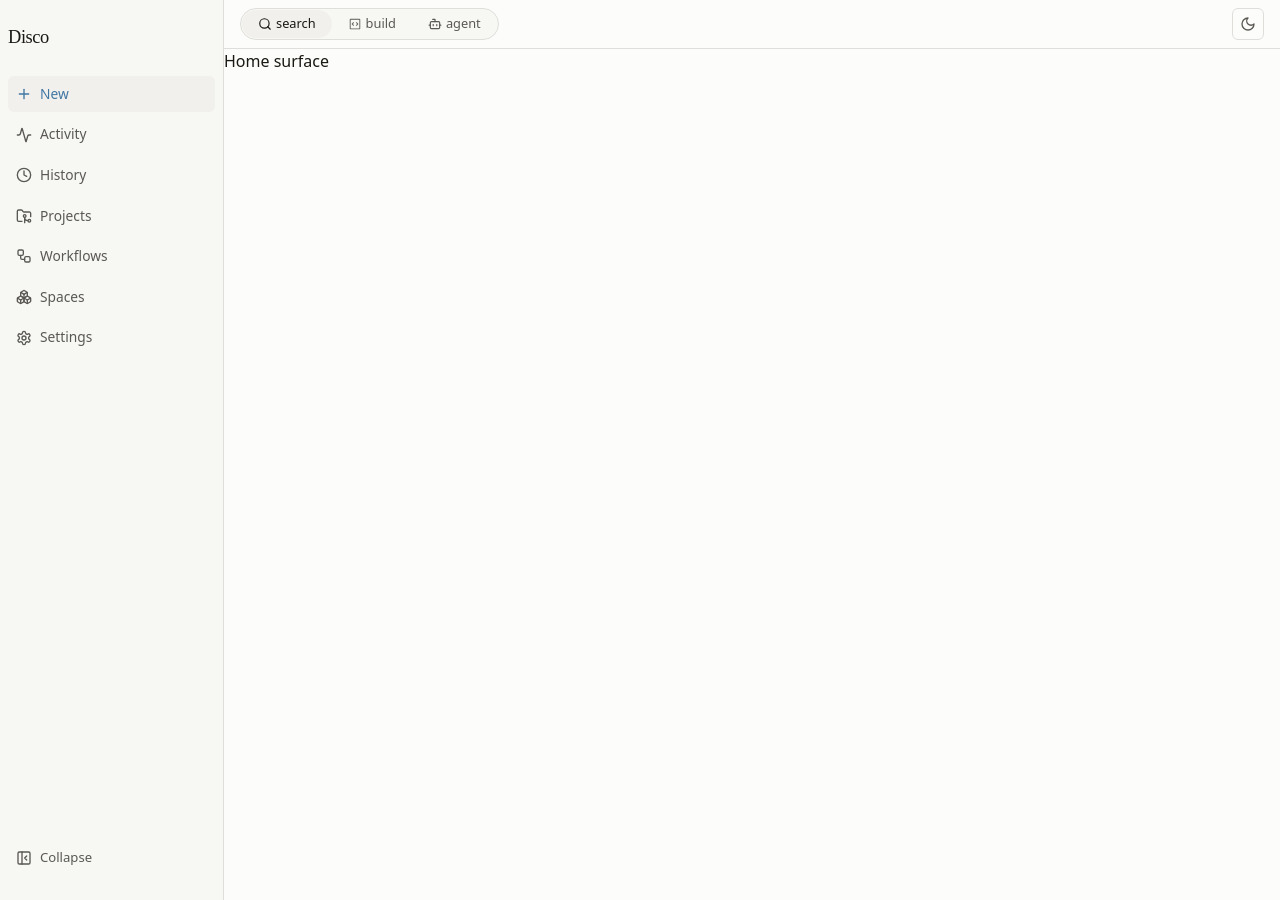
Application shell › collapses and expands the rail
Click the button with aria-label "Collapse navigation": [112, 858] box [8,840,215,876]
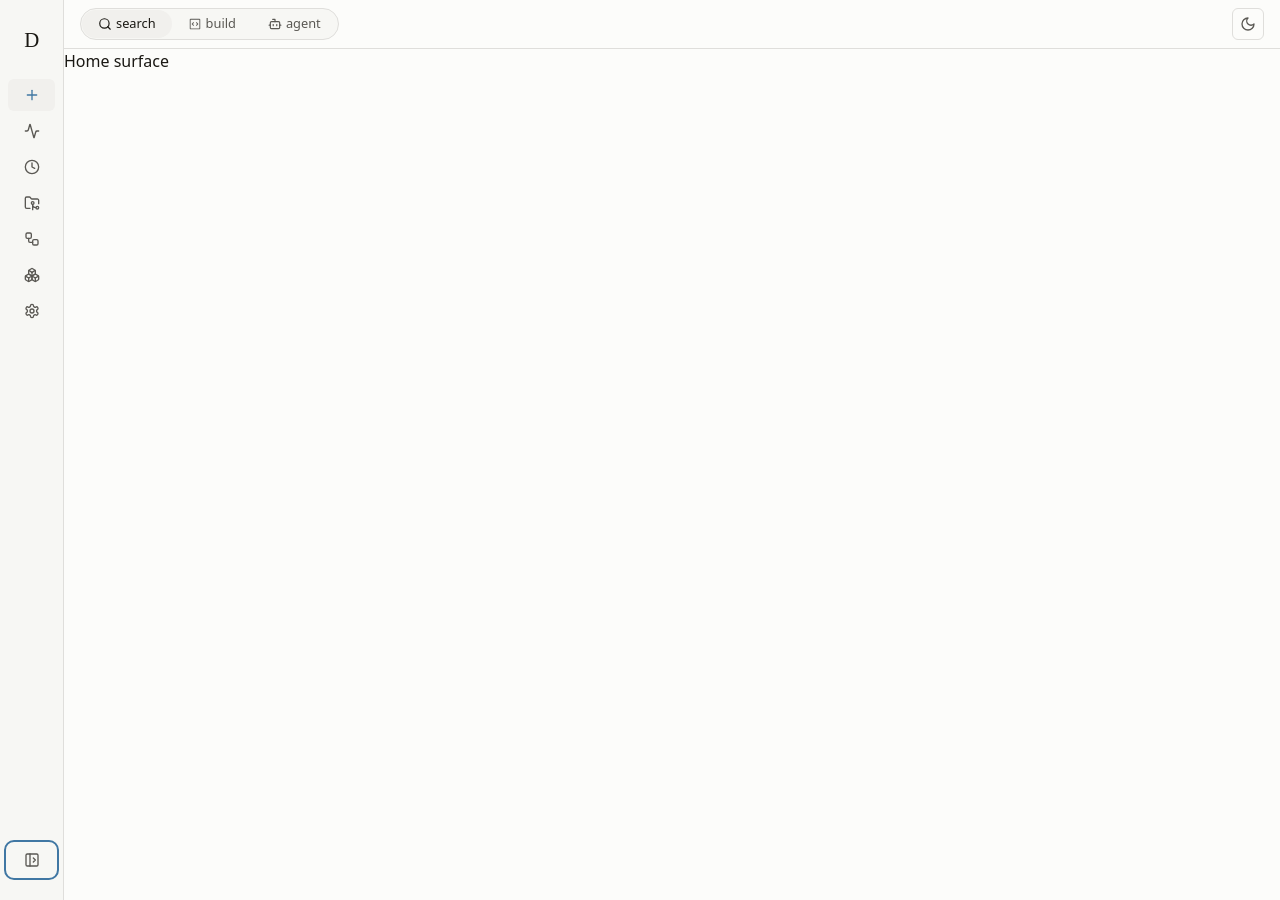
Expected: the button named "Expand navigation" is shown, [8,844,55,876]
